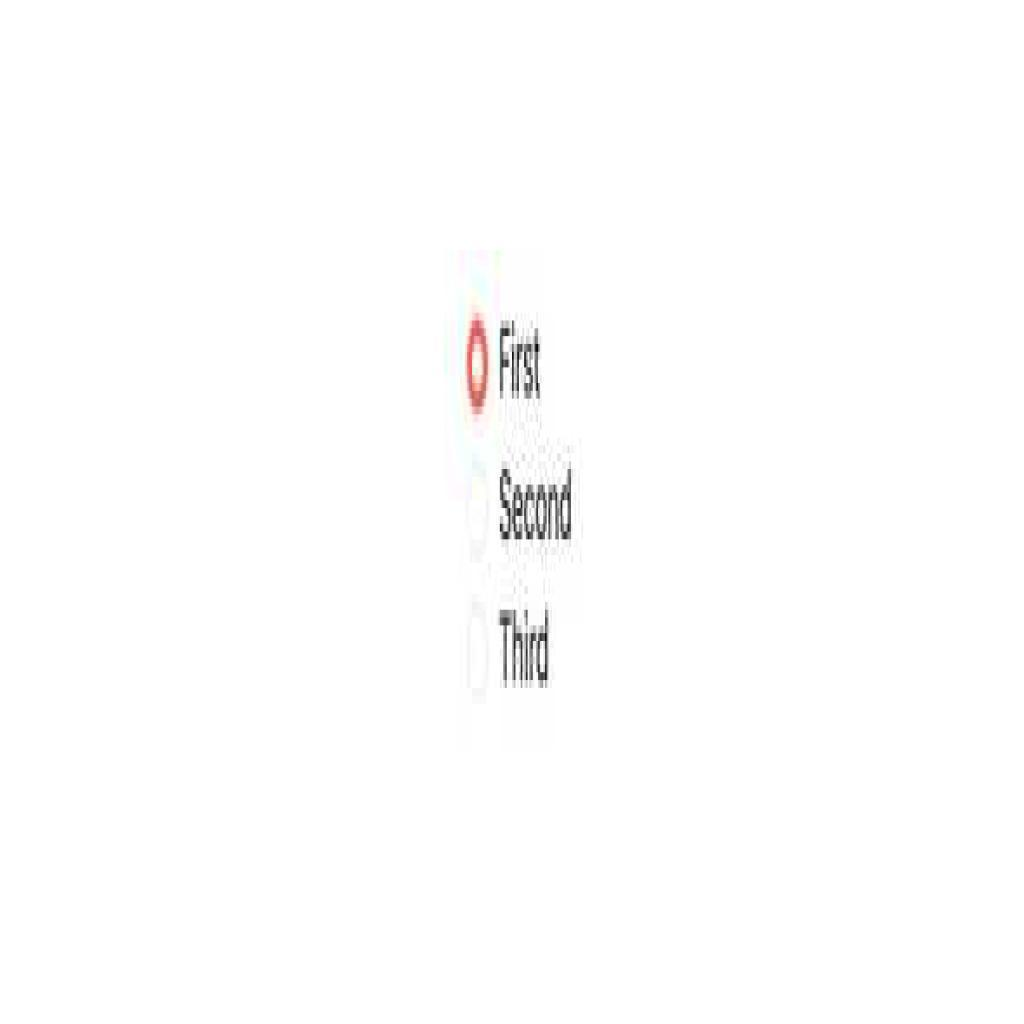radio: (463, 601, 496, 698), (461, 466, 496, 554), (466, 309, 492, 420)
